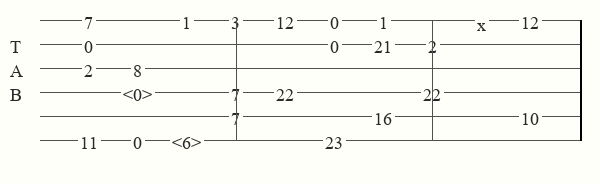0: (84, 36, 97, 52), (133, 132, 146, 148), (330, 36, 343, 52), (330, 12, 343, 28)
1: (182, 12, 195, 28), (379, 12, 392, 28)
10: (521, 108, 543, 124)
11: (80, 132, 102, 148)
12: (276, 12, 298, 28), (521, 12, 543, 28)
16: (374, 108, 396, 124)
2: (84, 60, 97, 76), (428, 36, 441, 52)
21: (374, 36, 396, 52)
22: (276, 84, 298, 100), (423, 84, 445, 100)
23: (325, 132, 347, 148)
3: (231, 12, 244, 28)
7: (84, 12, 97, 28), (231, 108, 244, 124), (231, 84, 244, 100)
8: (133, 60, 146, 76)
harmonic: (123, 84, 156, 100), (172, 132, 205, 148)
x: (477, 14, 490, 26)
